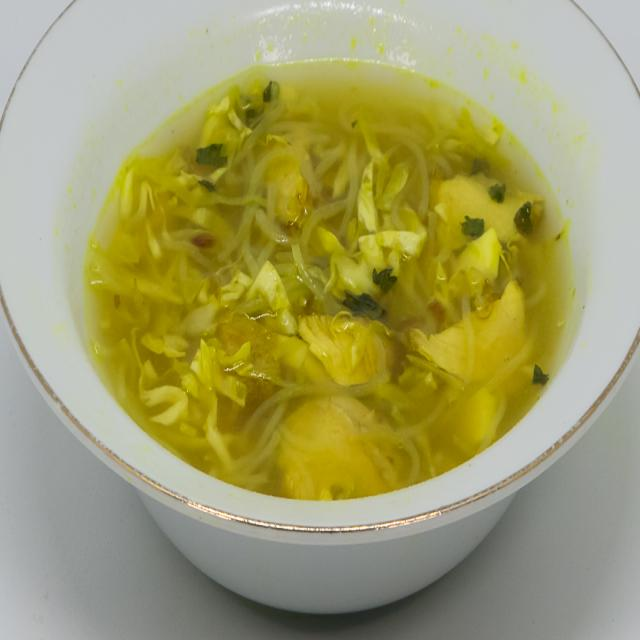Soto-Lamongan: (78, 17, 587, 509)
